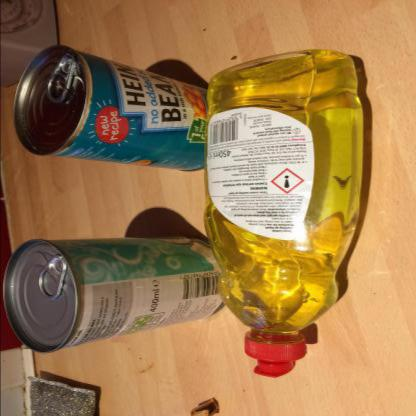Bottle: (244, 337, 306, 378)
Bottle cap: (203, 50, 362, 378)
Can: (3, 235, 225, 354), (13, 45, 208, 171)
Pop tab: (46, 53, 76, 103), (37, 254, 66, 300)
